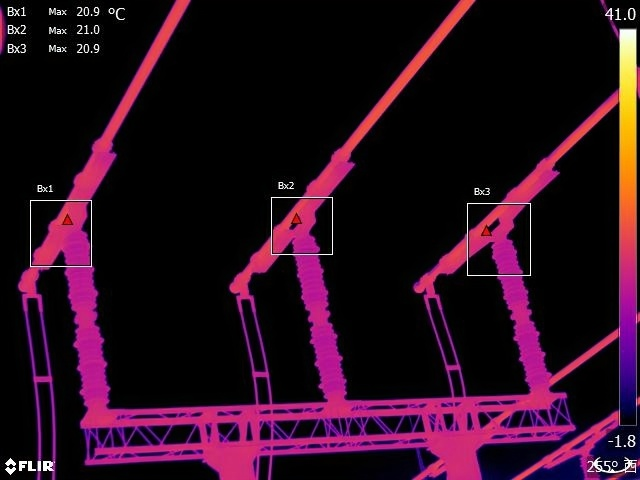clamp: (13, 257, 45, 306), (415, 266, 449, 308), (231, 264, 256, 305)
post insulator: (491, 226, 564, 389), (61, 230, 114, 399), (295, 232, 348, 399)
